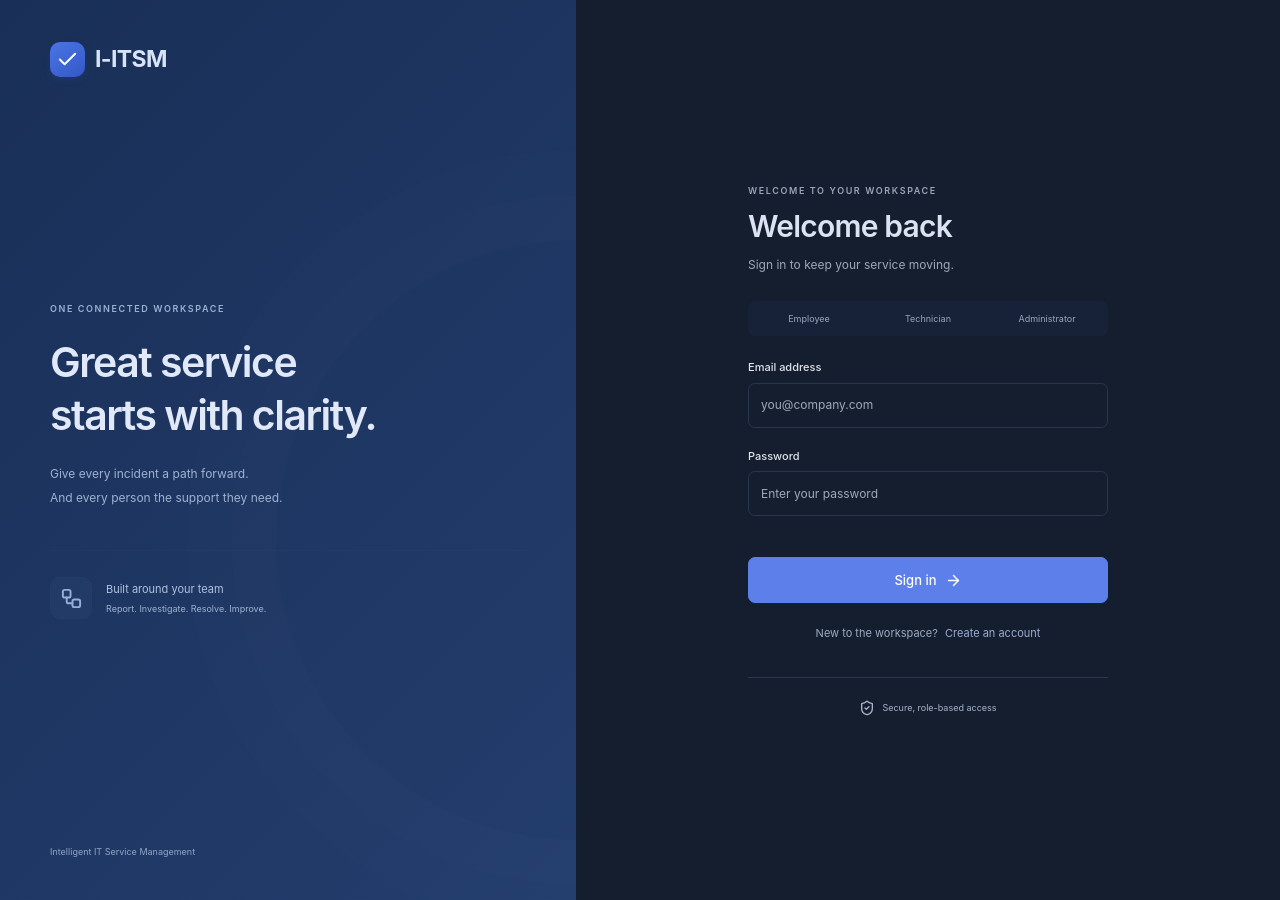
Test: Authentication and route permissions › submits credentials and displays backend errors
Type "employee@test.local" into the field labelled "Email address" at [928, 405], box [748,383,1108,428]
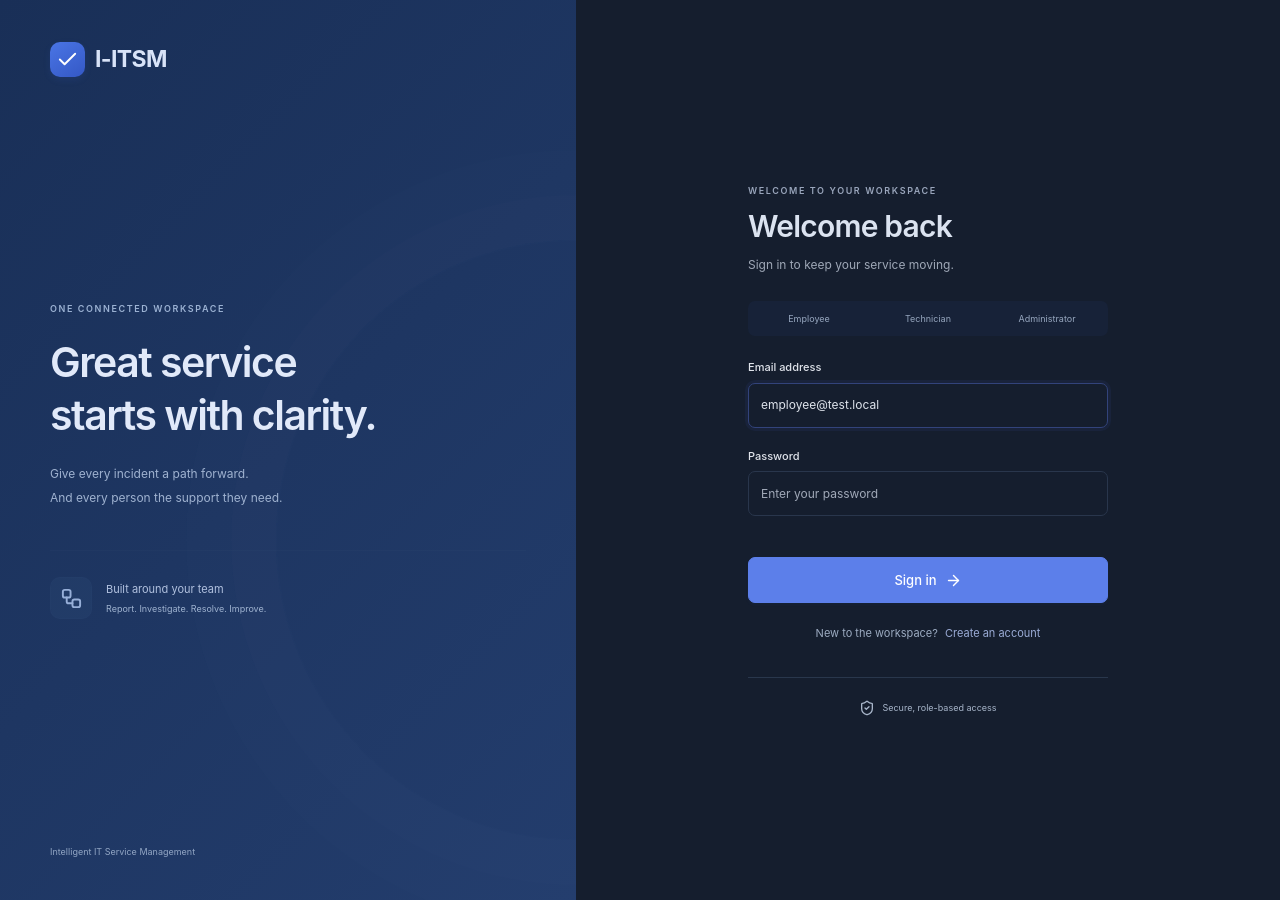
Type "wrong-password" into the password field labelled "Password" at [928, 494], box [748,471,1108,516]
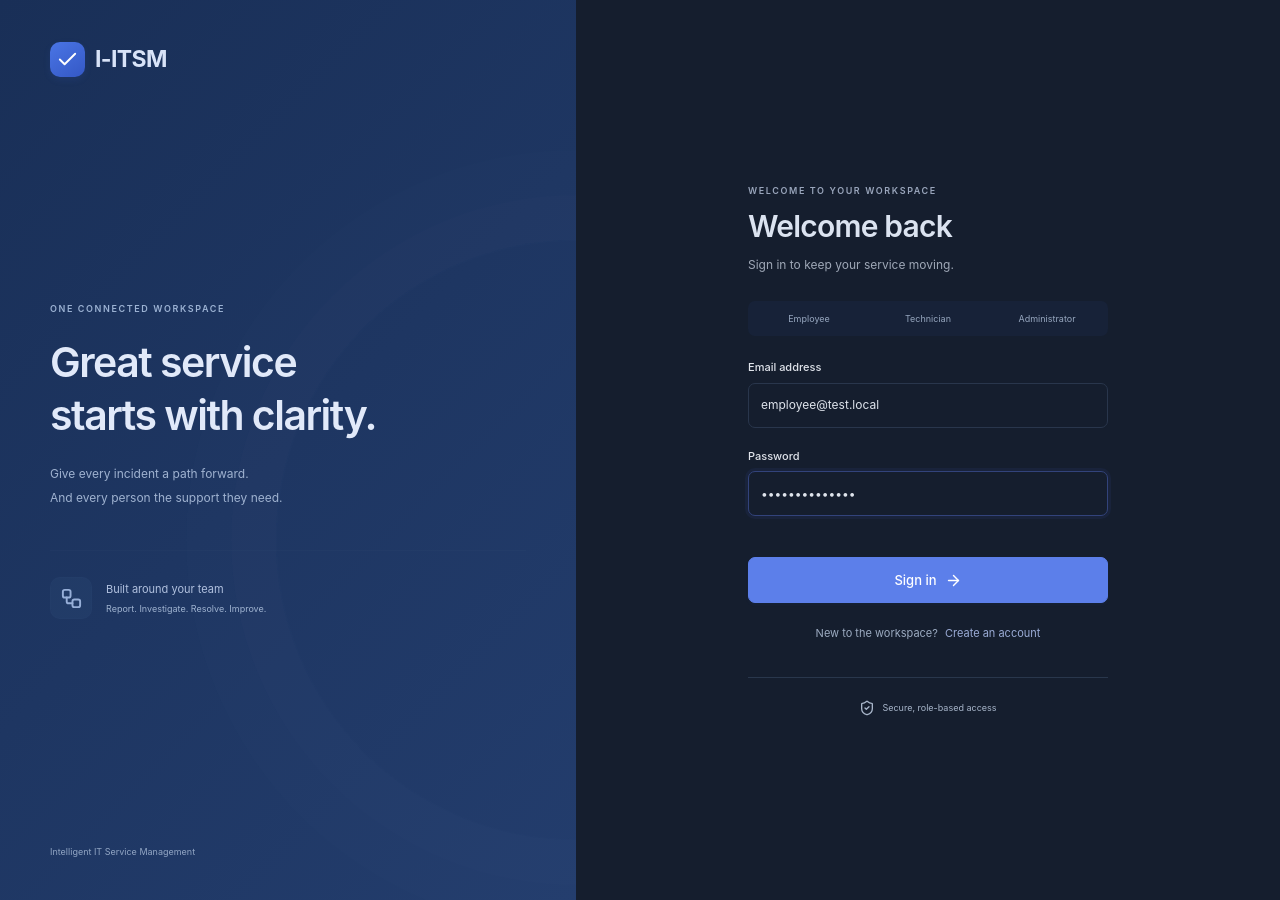
Click the button "Sign in" at [928, 580], box [748,557,1108,603]
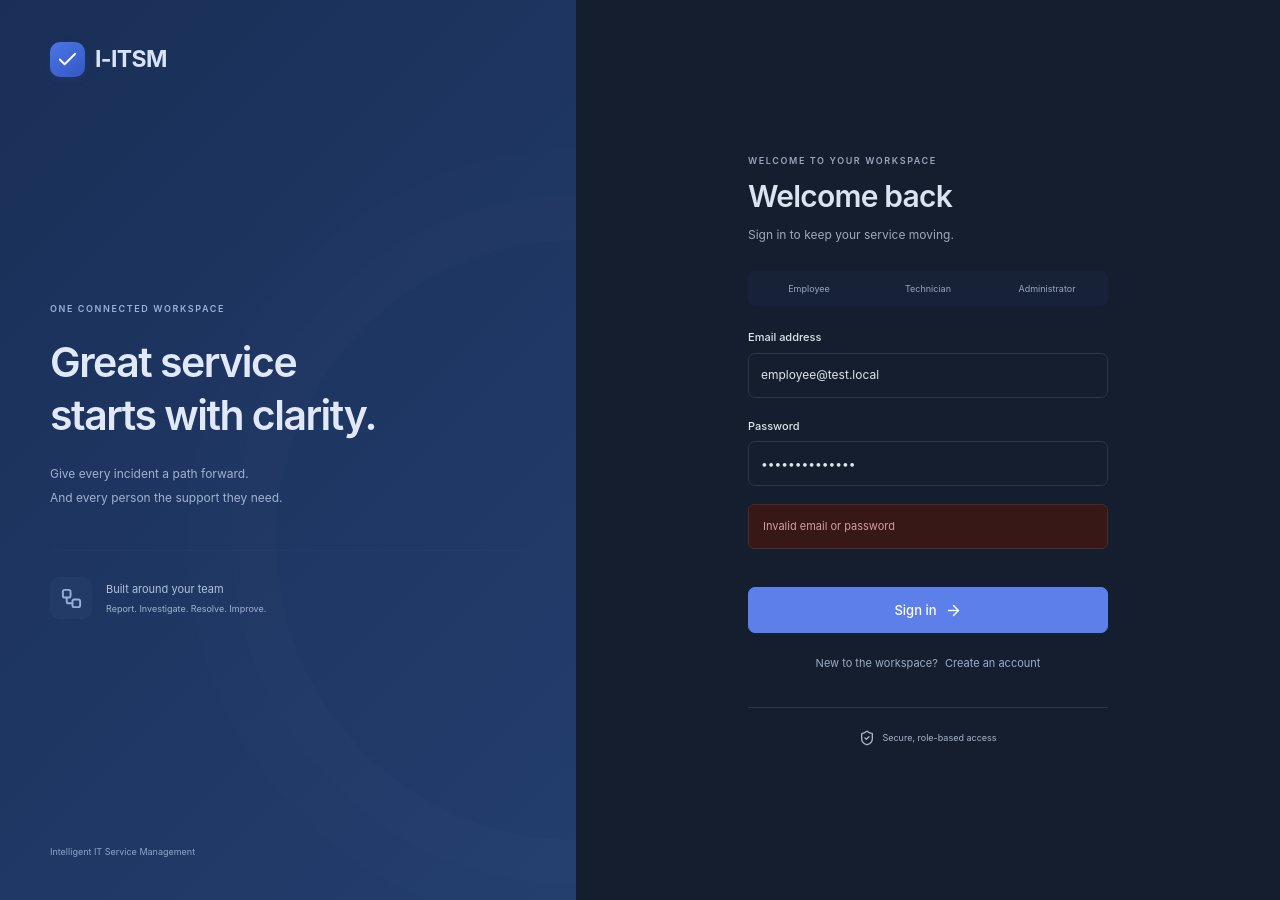
expect the message reads "Invalid email or password": met, box [763,519,895,533]
